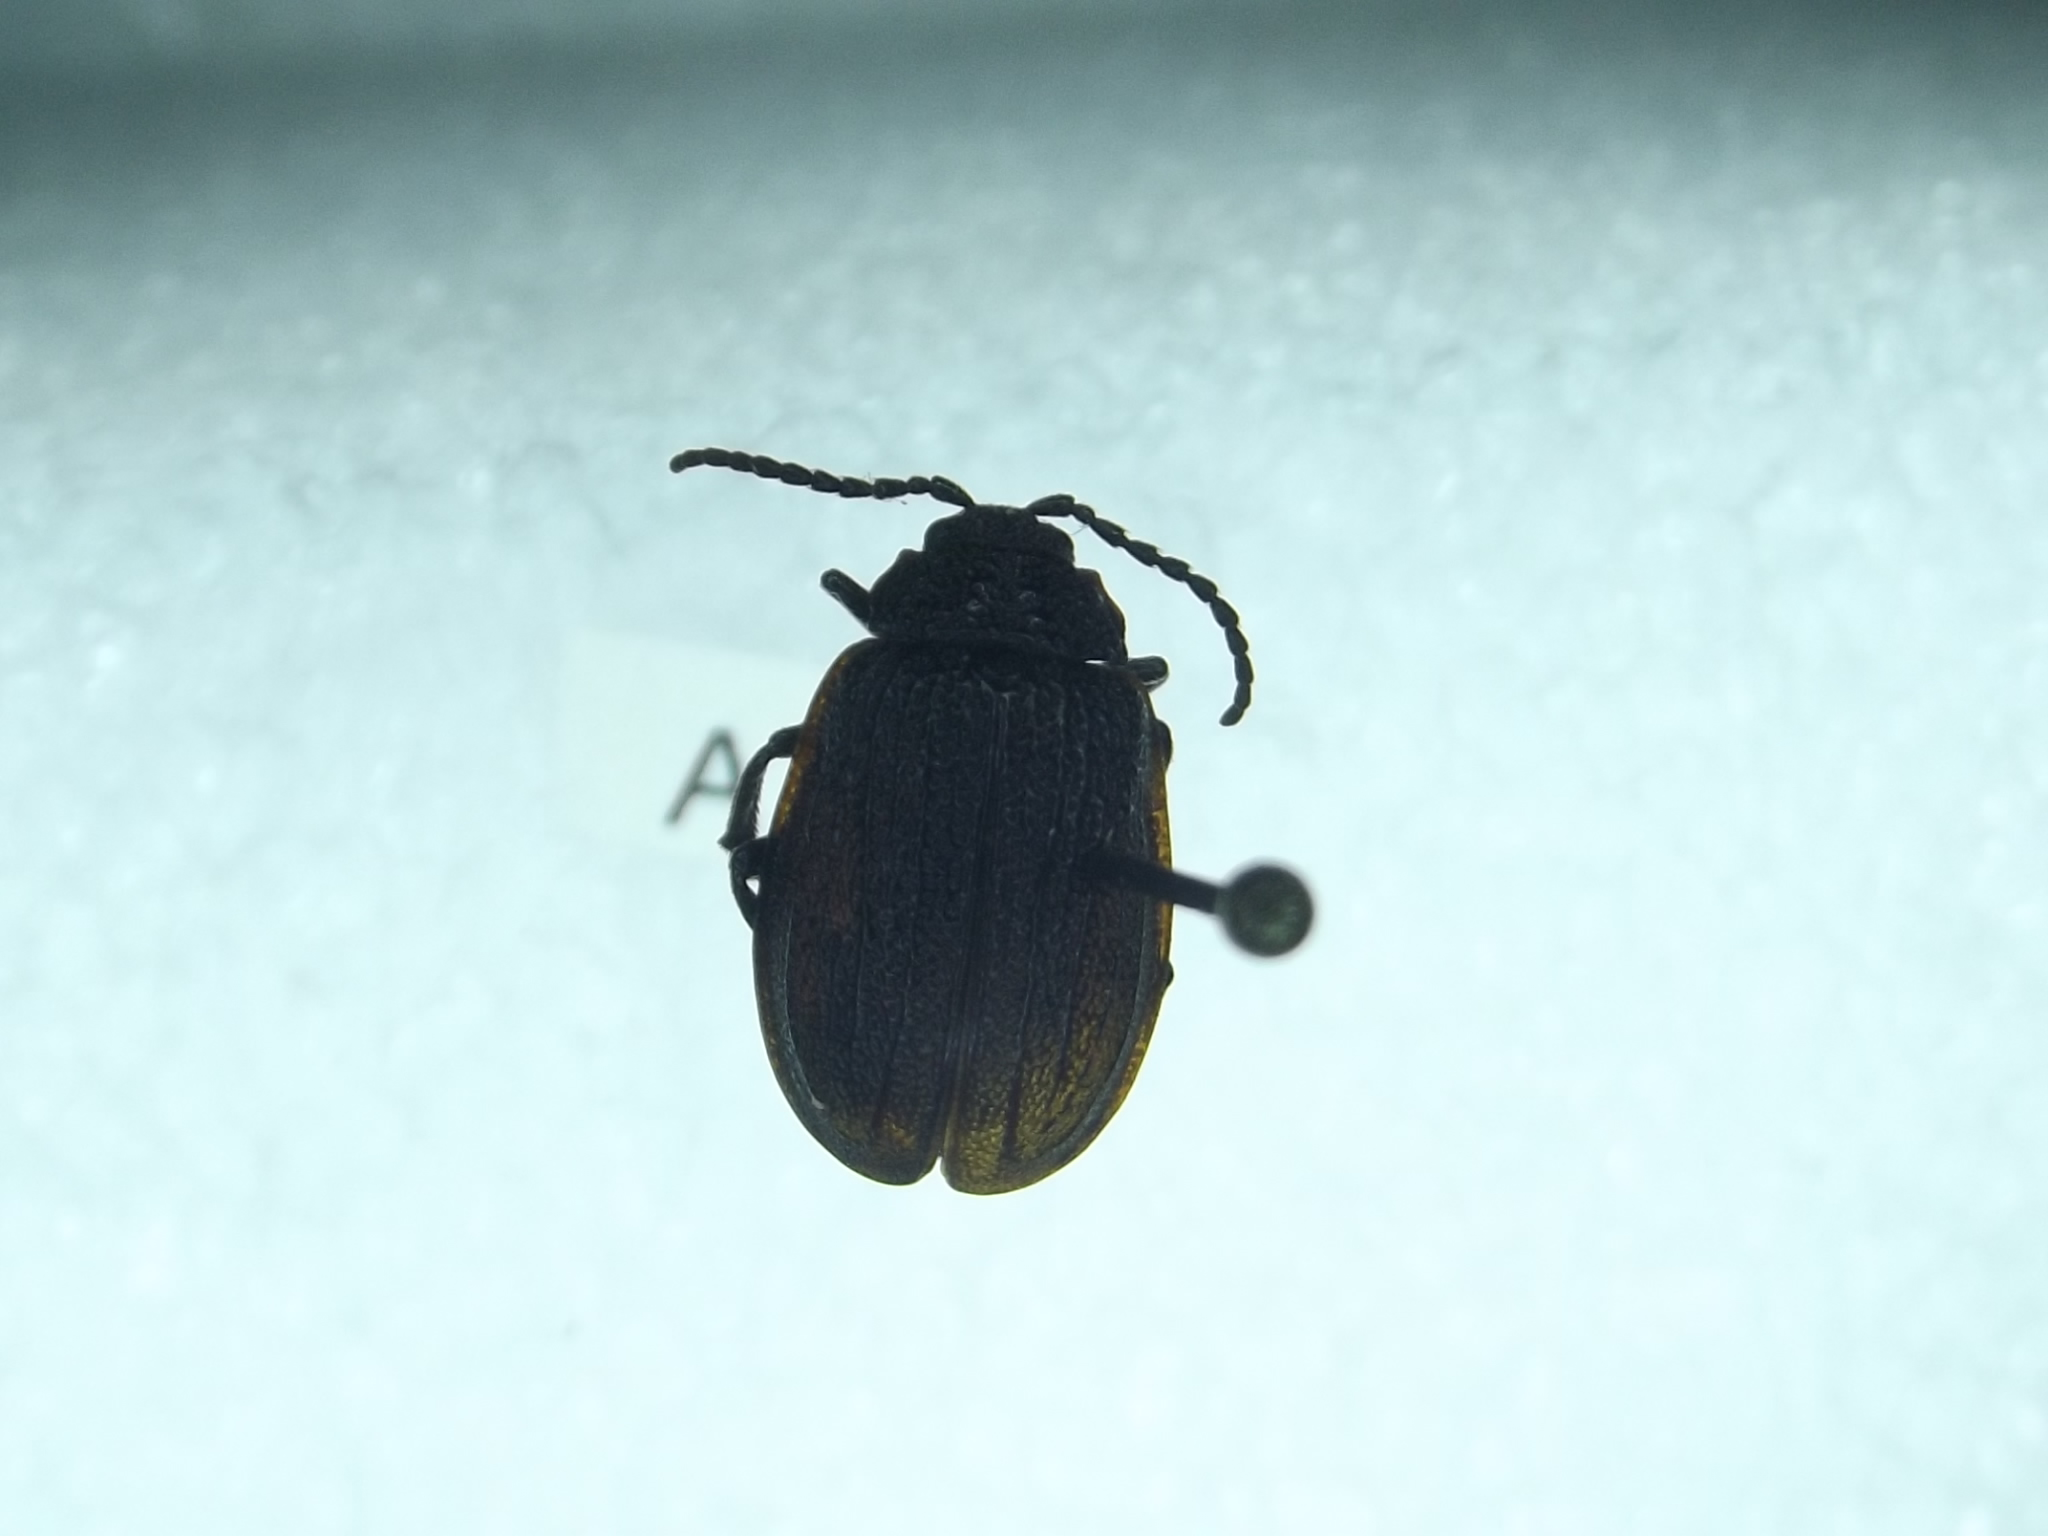Galeruca_tanaceti: (672, 444, 1251, 1210)
